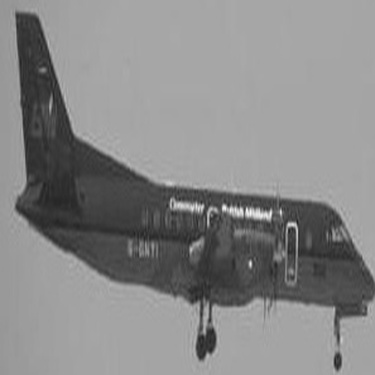airplane: (6, 1, 368, 370)
